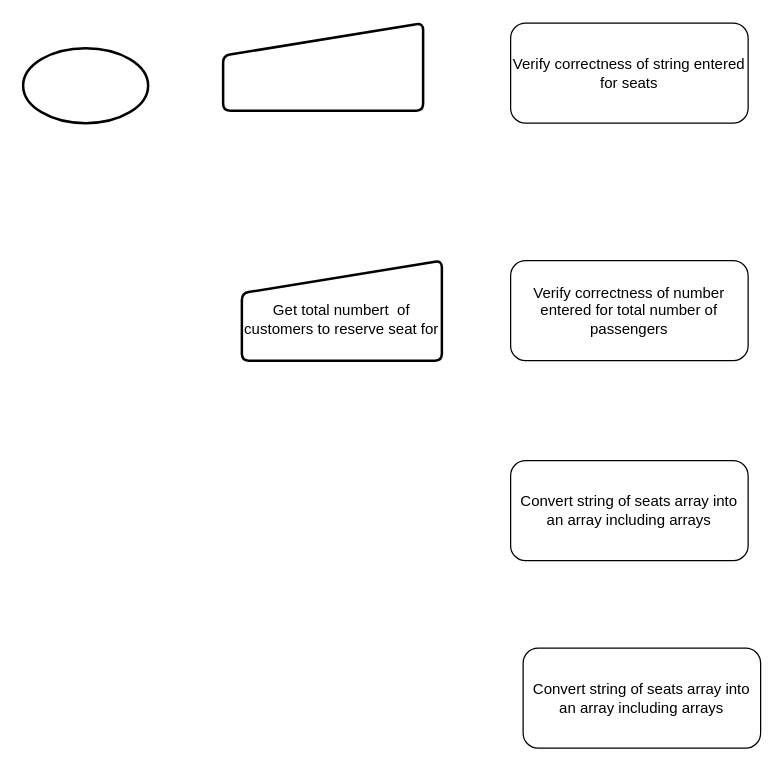
The diagram is 783 pixels wide and 770 high, and some of its shapes have lost their labels. Each missing label, with the centre of its shape:
"Get seats array from console" goes at (x=322, y=66).
"Start" goes at (x=85, y=85).
